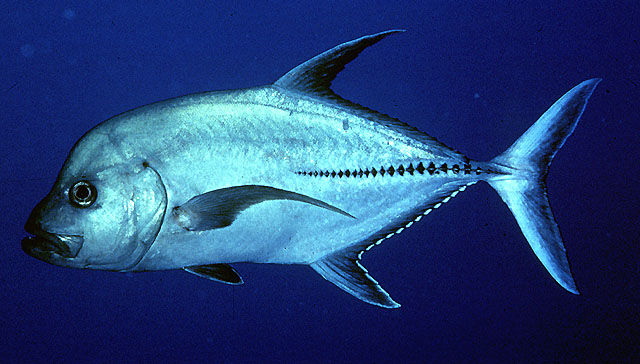fish: (22, 30, 602, 307)
